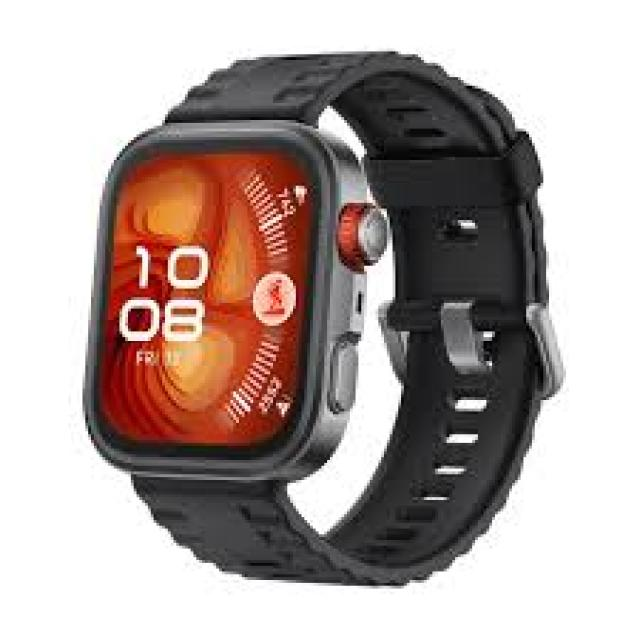objects: (82, 51, 560, 589)
